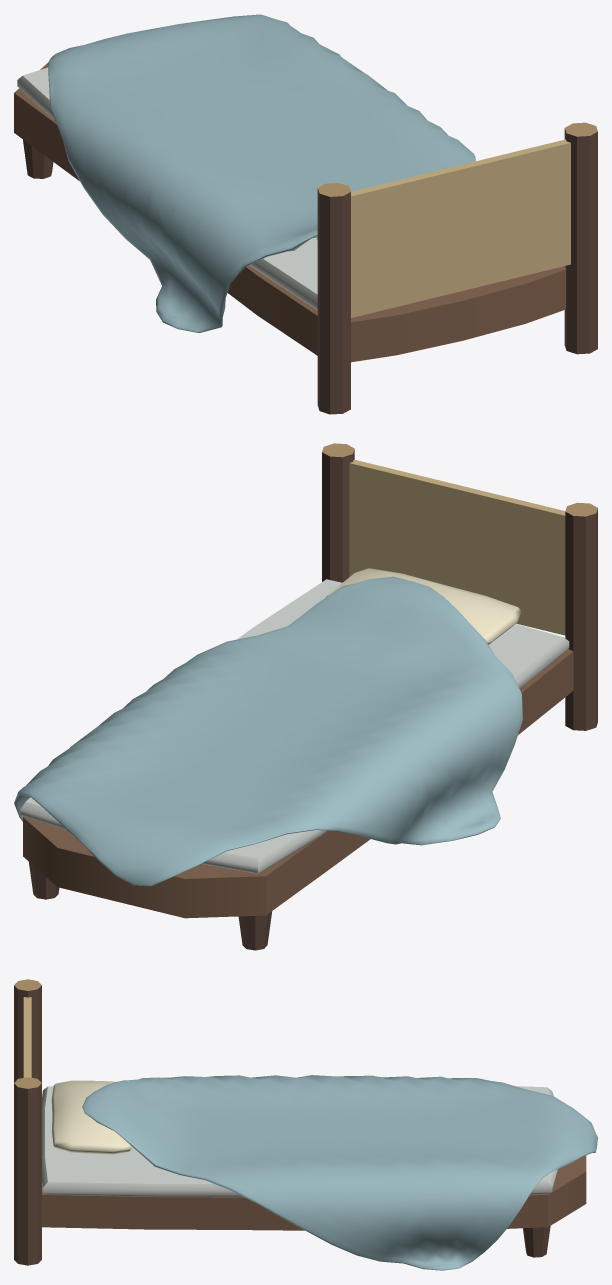
Rendered from atoll_Bed2.fbx.
3 renders of one model, top to bottom at view 1: azimuth 30°, elevation 25°; view 2: azimuth 150°, elevation 25°; view 3: azimuth 270°, elevation 25°, orthographic. The views are drawn at different scales.
Parts seen in each view (by area): view 1: Blanket2, Headboard, Base, Post2, Post3, Mattress, Leg2; view 2: Blanket2, Headboard, Base, Mattress, Post2, Post3, Pillow, Leg2; view 3: Blanket2, Base, Mattress, Post3, Pillow, Post2, Headboard, Leg1.
Boxes of the visible parts, left/top/right/bottom form: Blanket2: left=48, top=14, right=475, bottom=333; Headboard: left=351, top=139, right=570, bottom=317; Base: left=14, top=63, right=565, bottom=362; Post2: left=317, top=183, right=350, bottom=414; Post3: left=564, top=122, right=597, bottom=354; Mattress: left=17, top=67, right=317, bottom=309; Leg2: left=23, top=139, right=53, bottom=178; Blanket2: left=14, top=576, right=522, bottom=886; Headboard: left=349, top=459, right=565, bottom=635; Base: left=23, top=648, right=573, bottom=918; Mattress: left=20, top=579, right=569, bottom=873; Post2: left=565, top=502, right=597, bottom=730; Post3: left=322, top=443, right=354, bottom=582; Pillow: left=325, top=568, right=521, bottom=644; Leg2: left=238, top=911, right=272, bottom=950; Blanket2: left=82, top=1075, right=597, bottom=1270; Base: left=41, top=1155, right=586, bottom=1230; Mattress: left=42, top=1086, right=558, bottom=1196; Post3: left=14, top=1077, right=41, bottom=1265; Pillow: left=51, top=1080, right=131, bottom=1154; Post2: left=14, top=979, right=41, bottom=1082; Headboard: left=23, top=997, right=31, bottom=1077; Leg1: left=523, top=1226, right=550, bottom=1257.
Bounding box in the file's own units: 269 × 171 × 511.
